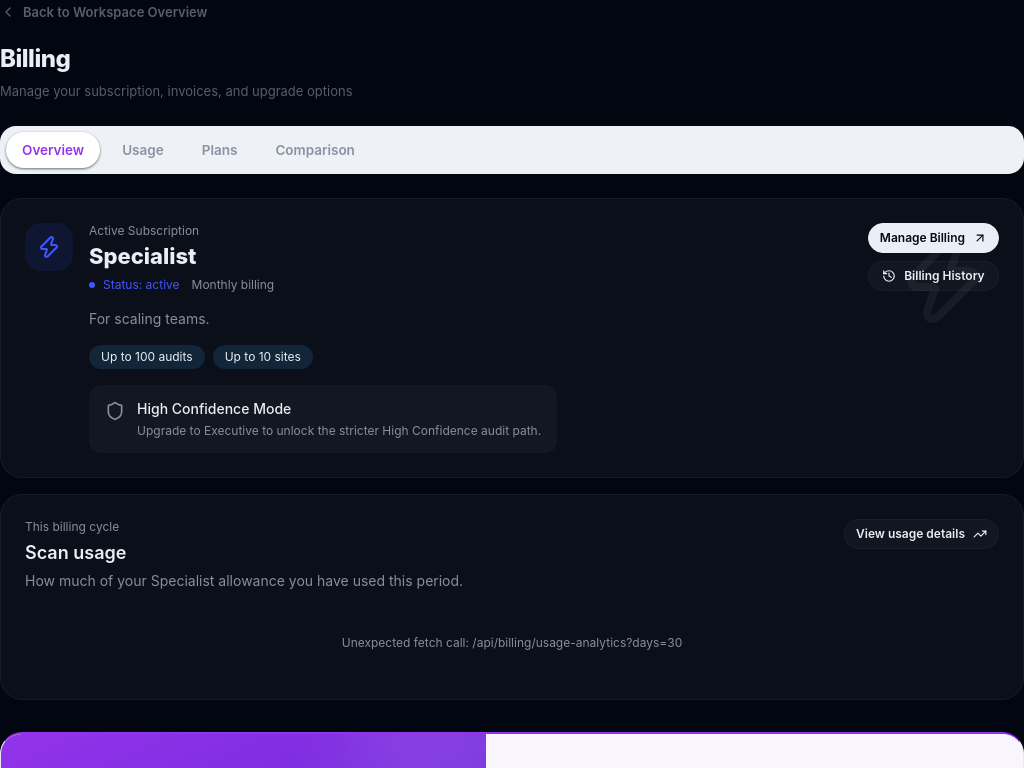
it: BillingPage › the Executive card (SIGV2-1211) › shows Jake's three highlights instead of capability-derived badges
Expected: the text "Active Subscription" is shown, [89,222,199,238]
Click the tab "Plans" at [220, 150], box [186,132,253,168]
(page scrolled)
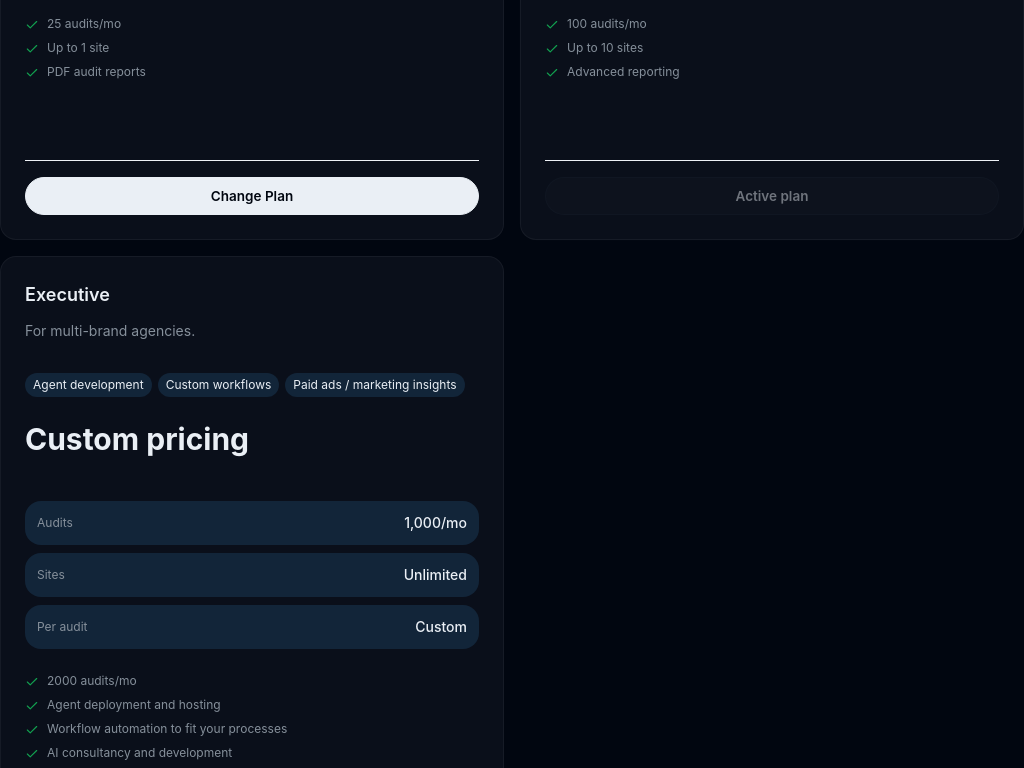
Expected: the text "Agent development" is shown, [25,372,152,396]
Expected: the text "Custom workflows" is shown, [158,372,279,396]
Expected: the text "Paid ads / marketing insights" is shown, [285,372,465,396]
